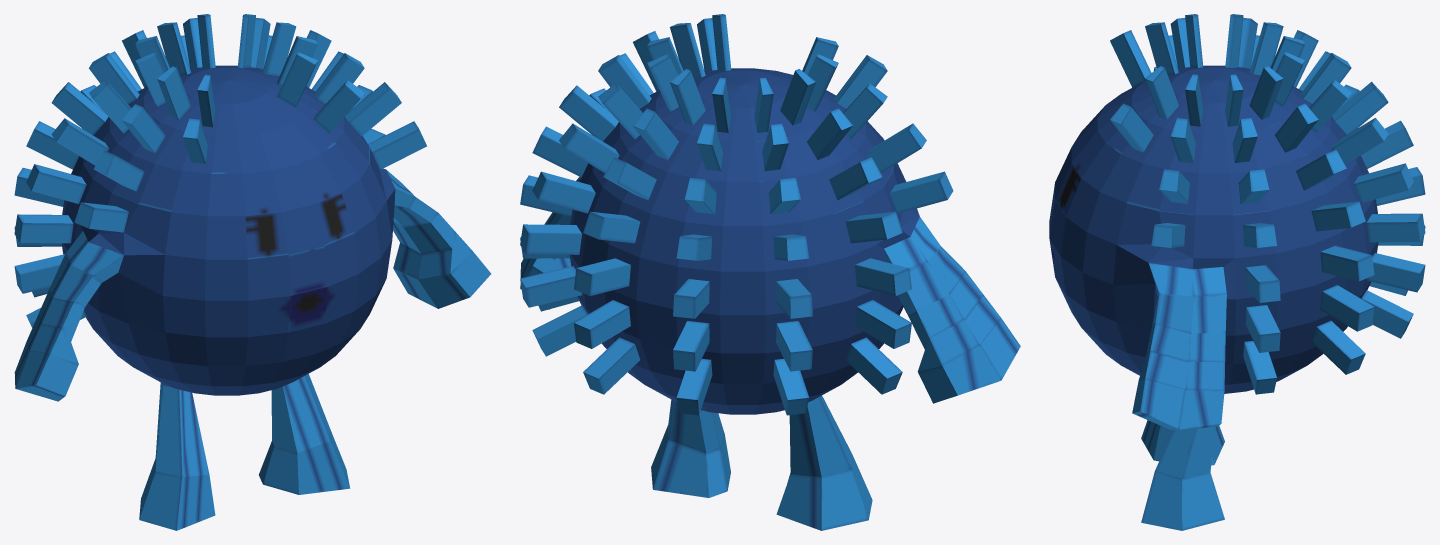
File: barbs.obj
3 views of the same model, side by side, from view 1: azimuth 30°, elevation 25°; view 2: azimuth 150°, elevation 25°; view 3: azimuth 270°, elevation 25° (orthographic). The views are drawn at different scales.
Visible parts, largest first — view 1: sphere; view 2: sphere; view 3: sphere.
Boxes of the visible parts, <box> form: sphere: <box>14,14,491,530</box>; sphere: <box>520,14,1020,530</box>; sphere: <box>1049,14,1425,530</box>.
Size of the model in its own units: 0.6224 by 0.5688 by 0.4449.
1 material, 1 textured.
